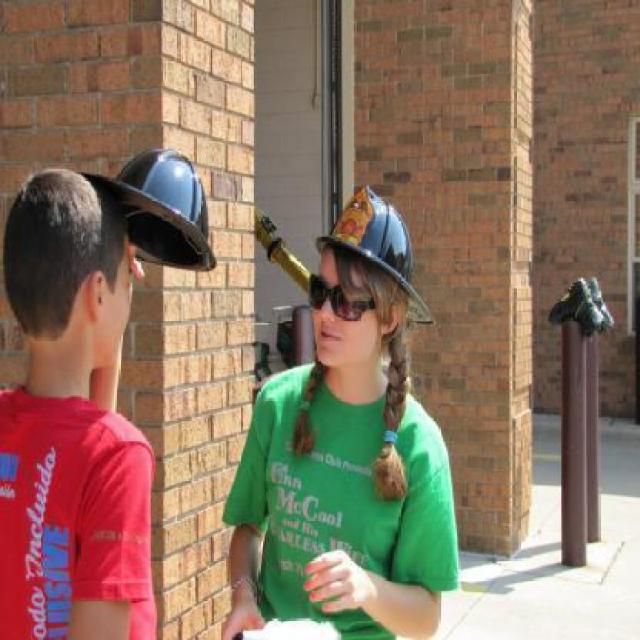face_nomask: (309, 266, 373, 352)
glasses: (306, 272, 382, 323)
hand_noglove: (297, 544, 368, 616)
head_helmet: (79, 138, 221, 276), (307, 190, 421, 290)
person: (237, 177, 445, 640), (0, 155, 183, 640)
